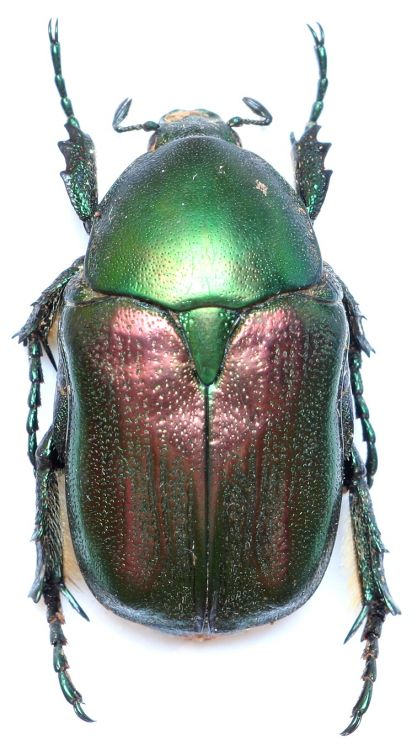Protaetia_angustata_angustata: (12, 5, 405, 745)
